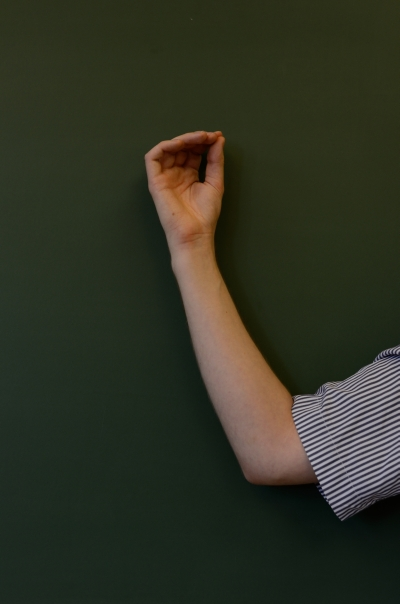hand: (139, 128, 232, 238)
